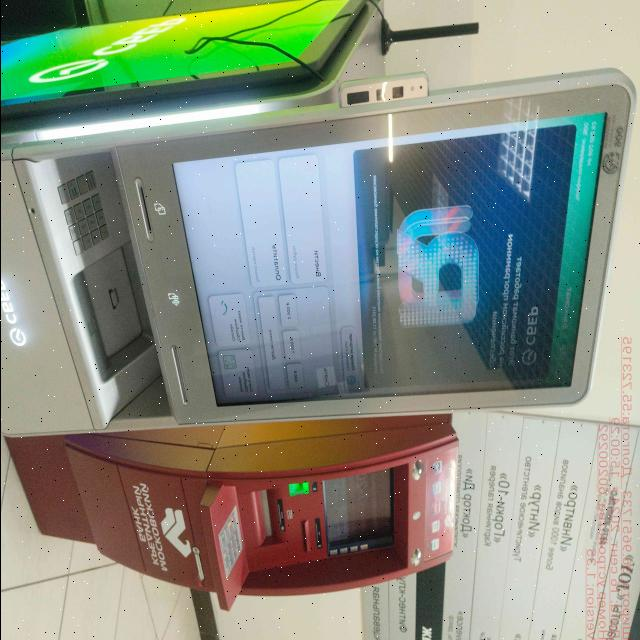bank: (0, 0, 639, 452)
